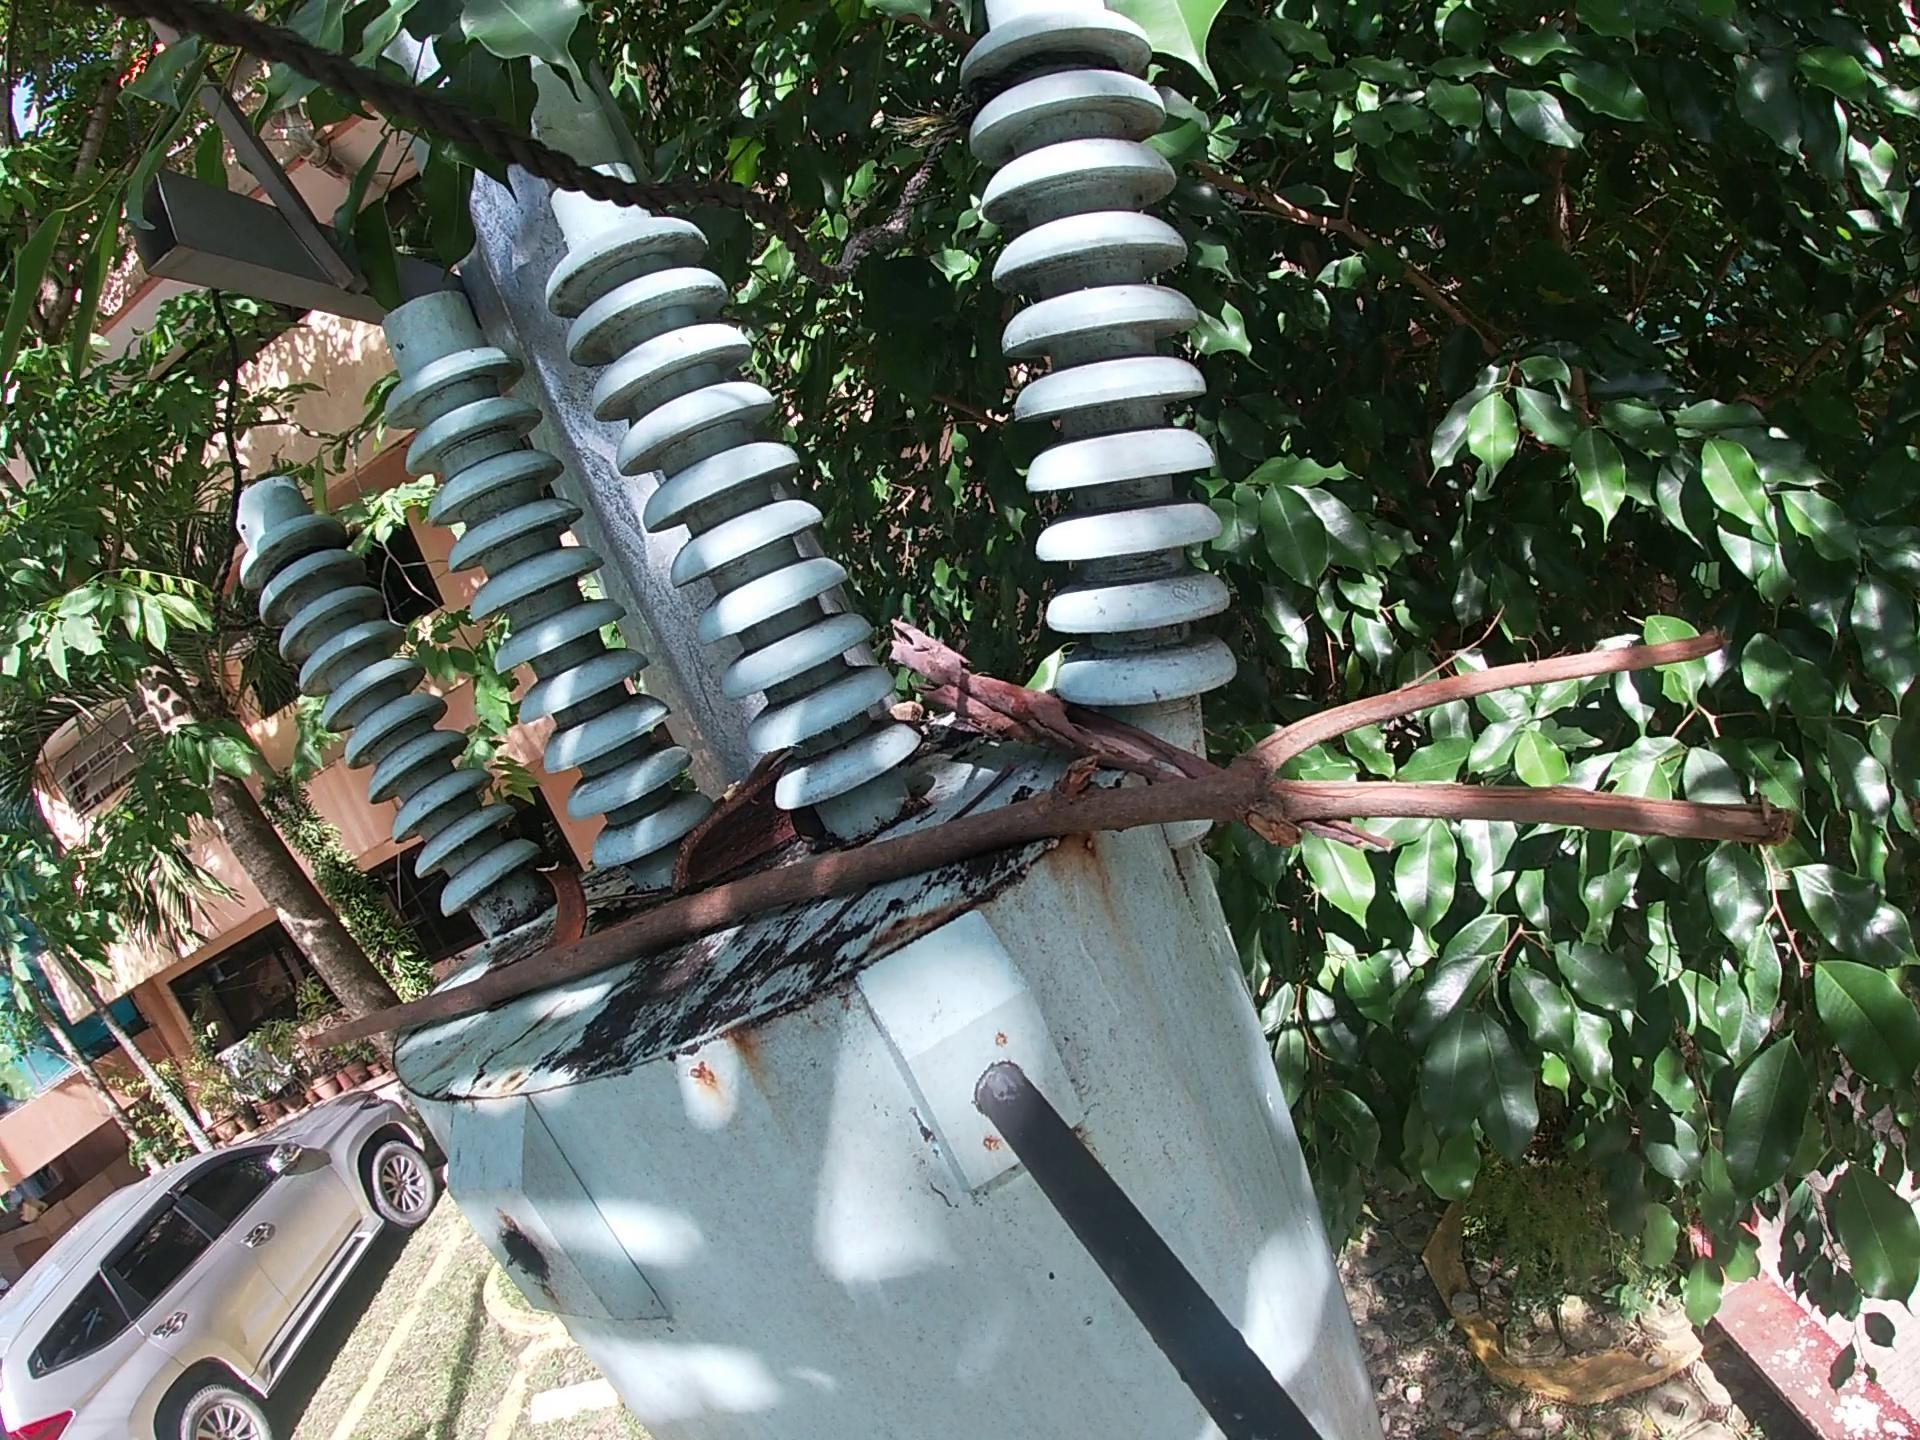mahogany fruit: (676, 774, 803, 911), (537, 864, 590, 948)
tree branch: (305, 622, 1843, 1054), (748, 753, 1027, 1007), (895, 616, 1211, 779), (712, 746, 792, 808), (584, 889, 661, 914), (881, 702, 928, 722)
